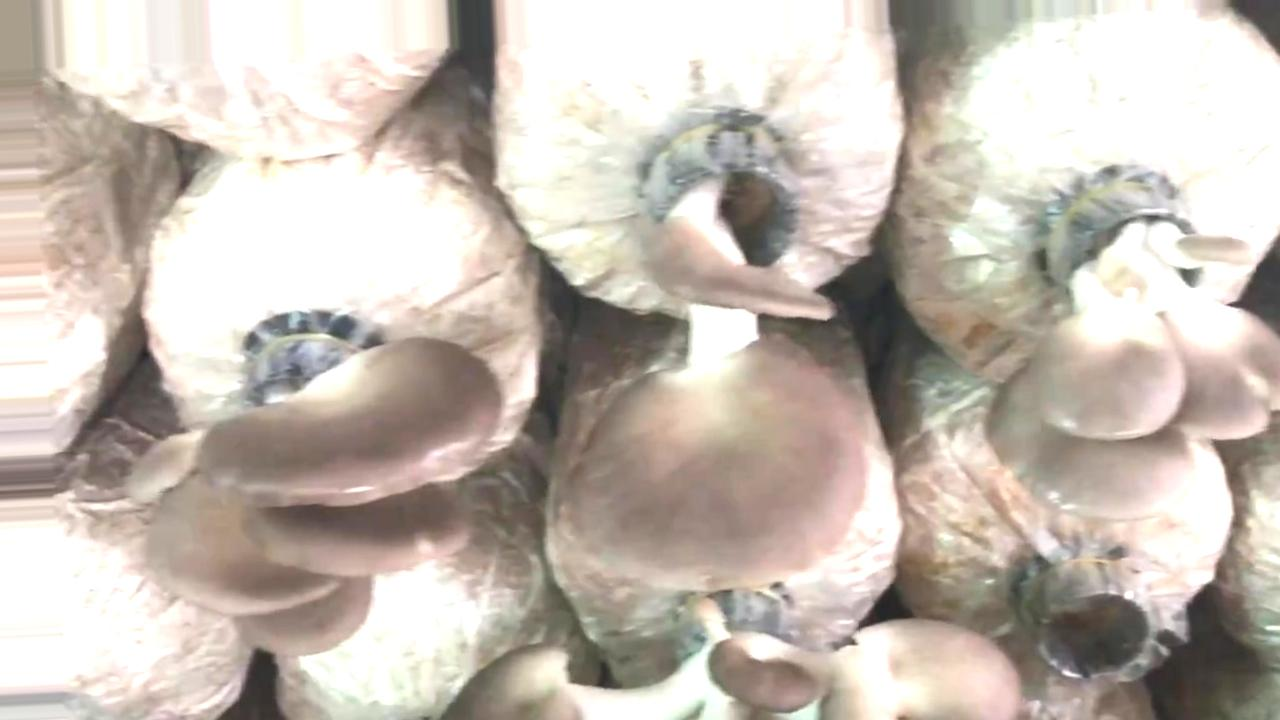nam: (564, 113, 873, 596), (136, 318, 506, 662), (981, 180, 1280, 522), (443, 595, 1020, 720)
